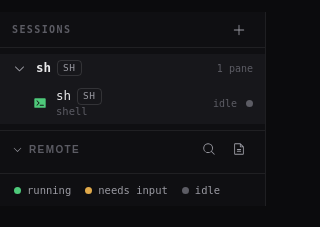
Test case: Sidebar — renaming a session › Enter saves the trimmed name, shows it, and gives the terminal its keyboard back
The image size is (320, 227).
Double-click the text with class "session" at {"x": 44, "y": 68}, box [36,60,51,76]
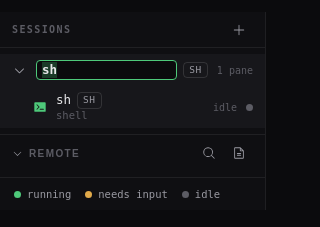
Replace the text in the field with class "tree-rename" with "  backend  " at {"x": 107, "y": 70}, box [36,60,177,80]
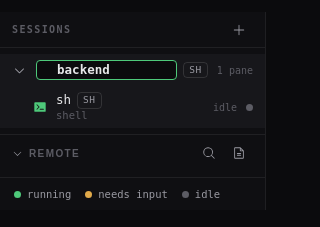
Press Enter in the field with class "tree-rename", box [36,60,177,80]
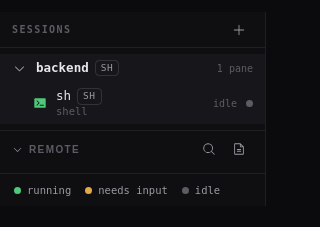
Expected: the text "backend" is shown, [36,60,89,76]
Expected: the field with class "tree-rename" is gone
